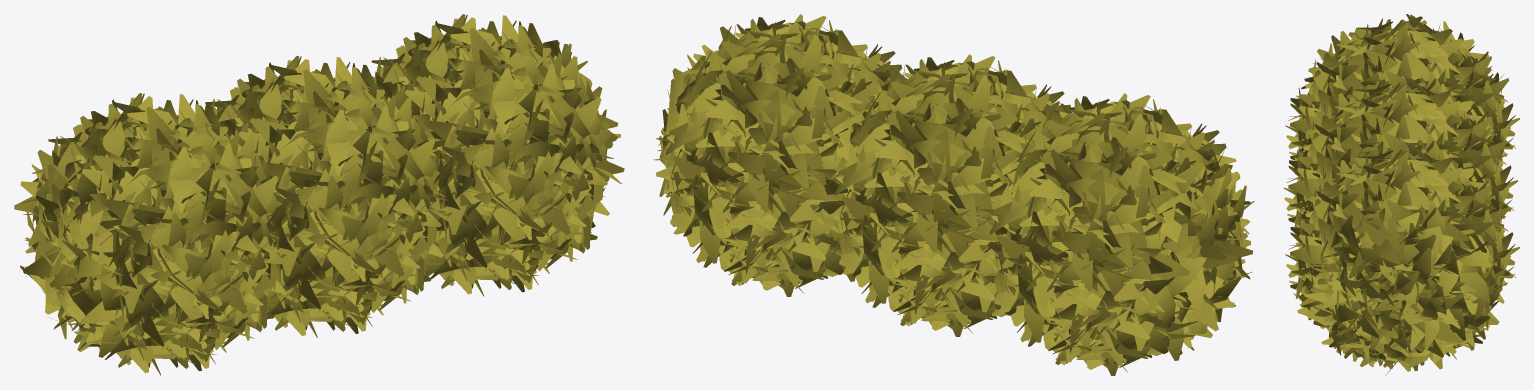
File: bush.glb
The picture shows the model from 3 angles, left to right: view 1: azimuth 30°, elevation 25°; view 2: azimuth 150°, elevation 25°; view 3: azimuth 270°, elevation 25°; orthographic projection. The views are drawn at different scales.
Visible parts, largest first — view 1: Плоскость.002; view 2: Плоскость.002; view 3: Плоскость.002.
Boxes of the visible parts, x1,y1,x2,y2 form: Плоскость.002: [14, 14, 624, 375]; Плоскость.002: [653, 14, 1254, 375]; Плоскость.002: [1283, 14, 1519, 375].
Bounding box in the file's own units: 5.78 × 2.53 × 2.56.
